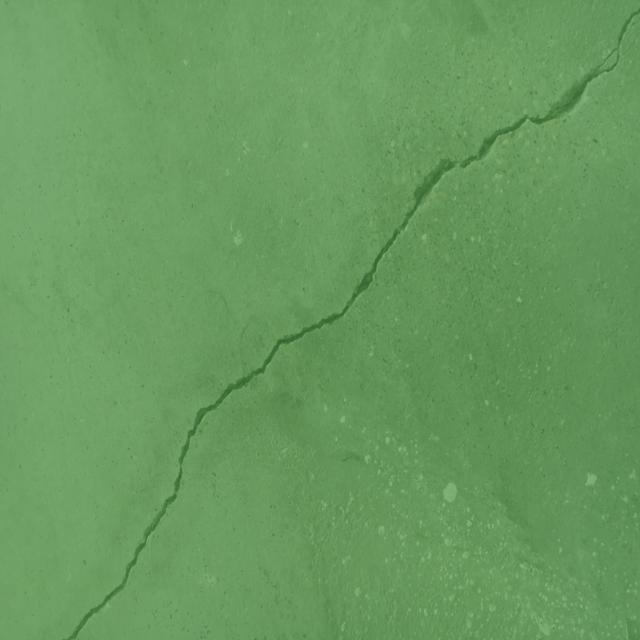crack: (62, 7, 640, 640), (622, 33, 640, 56)
